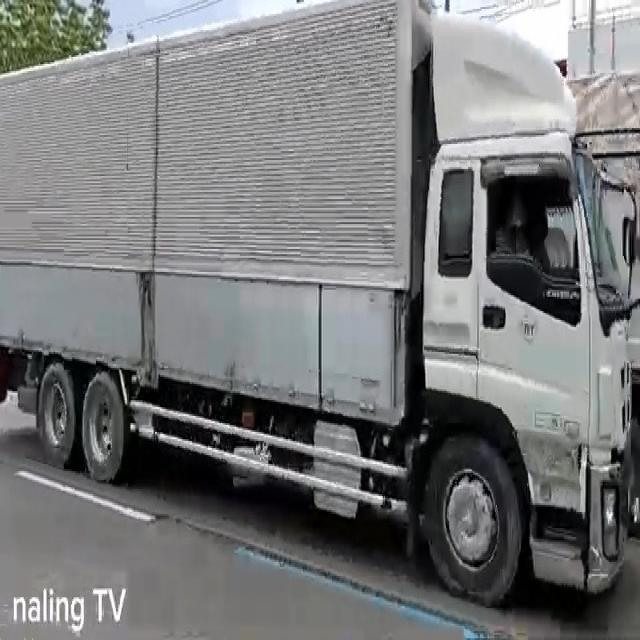truck: (0, 0, 632, 606)
